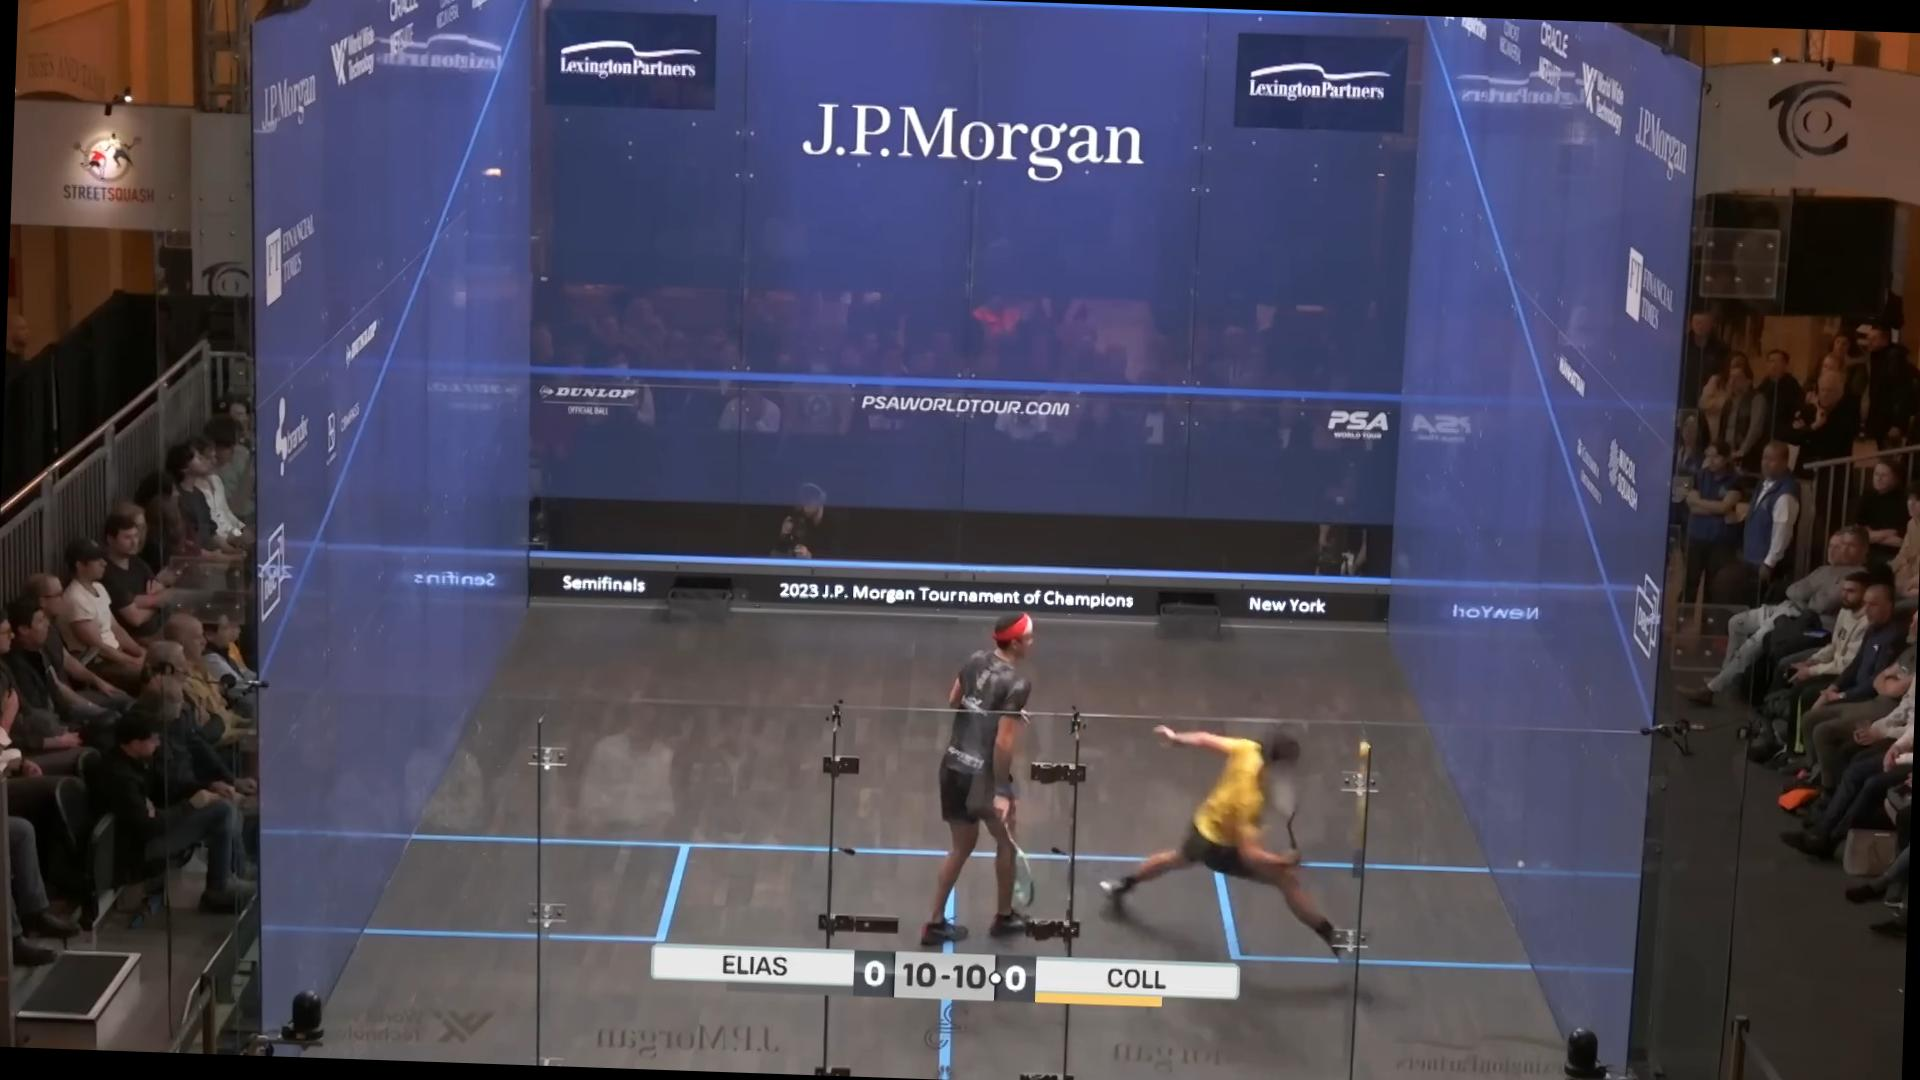Racket: (1250, 752, 1312, 862), (993, 802, 1048, 920)
